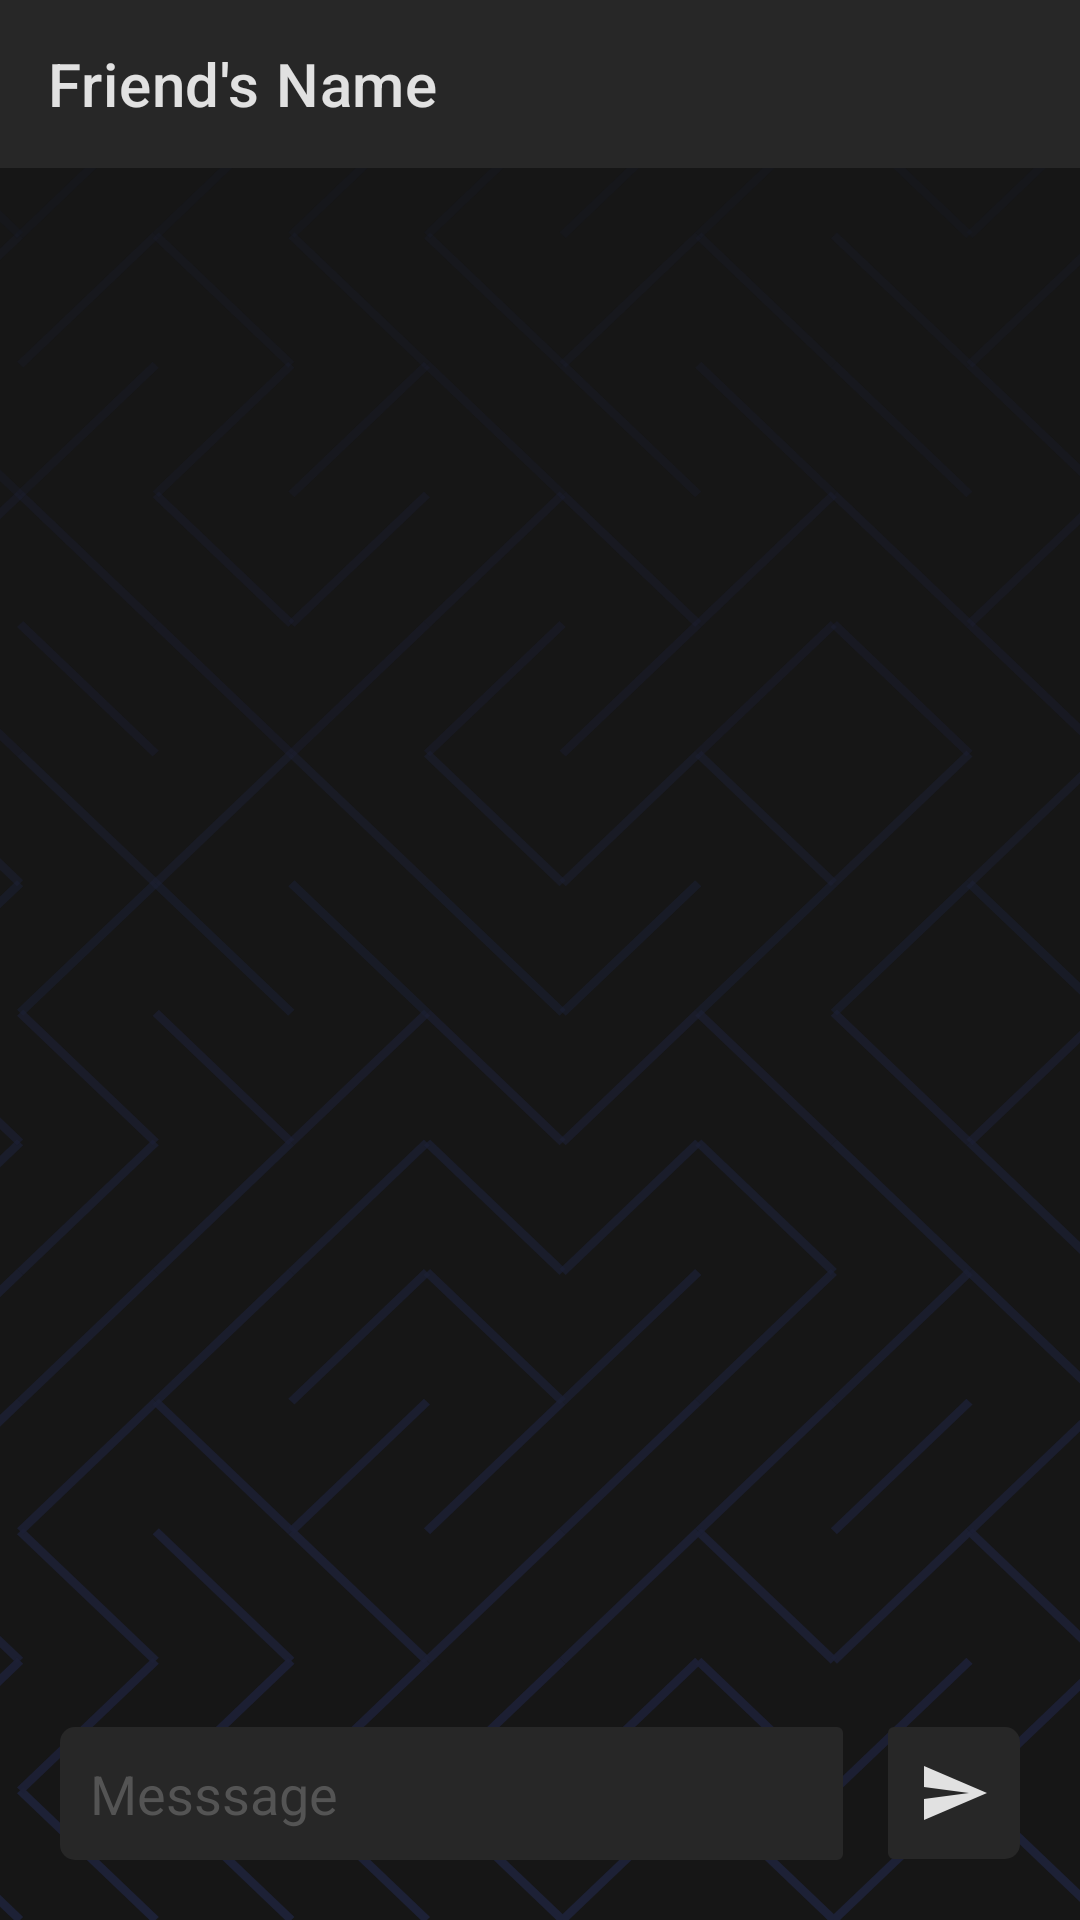

Where to tap for icons on this 1080 x 1920 app screen, as [x,y]:
send: [954,1793]
